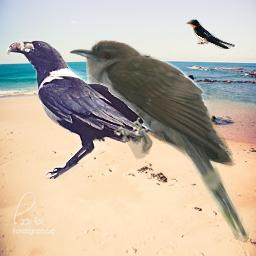Crow: (6, 39, 155, 179)
Cuckoo: (70, 40, 249, 244)
Swallow: (186, 18, 235, 49)
